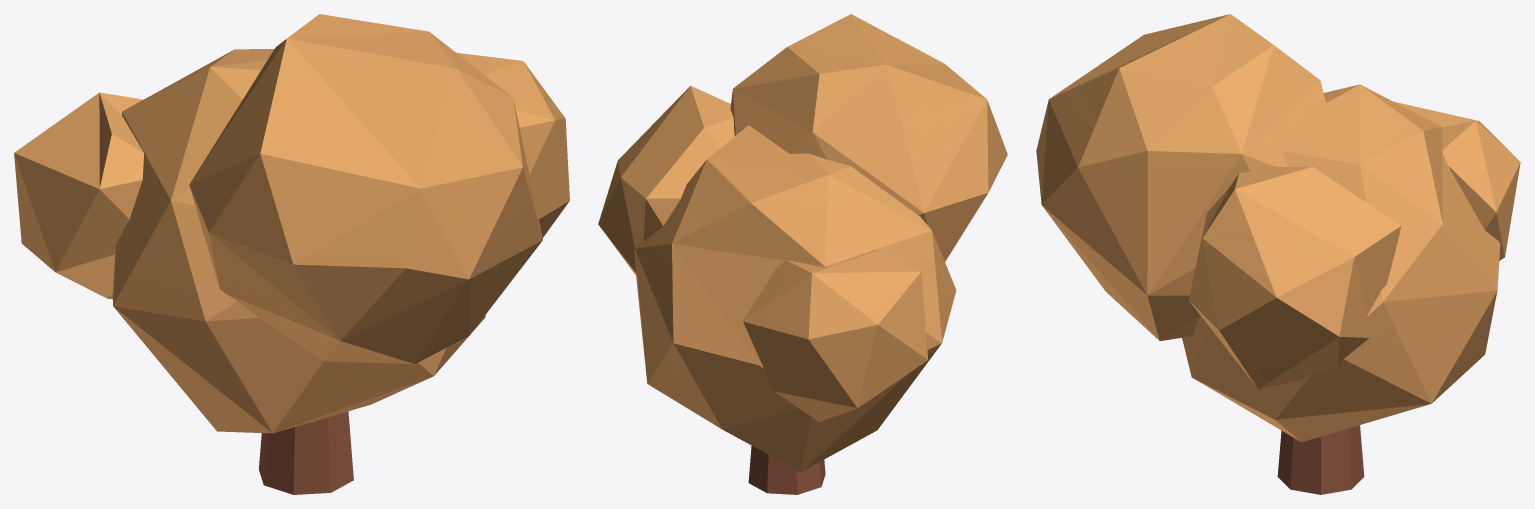
Rendered from Bush_5_gradient_yellow.fbx.
3 renders of one model, left to right at view 1: azimuth 30°, elevation 25°; view 2: azimuth 150°, elevation 25°; view 3: azimuth 270°, elevation 25°, orthographic. The views are drawn at different scales.
Visible parts, largest first — view 1: Bush_5_gradient_yellow; view 2: Bush_5_gradient_yellow; view 3: Bush_5_gradient_yellow.
Boxes of the visible parts, x1,y1,x2,y2 form: Bush_5_gradient_yellow: (14, 14, 569, 494); Bush_5_gradient_yellow: (598, 14, 1007, 494); Bush_5_gradient_yellow: (1036, 14, 1520, 494).
Bounding box in the file's own units: 31.34 × 32.92 × 33.43.
